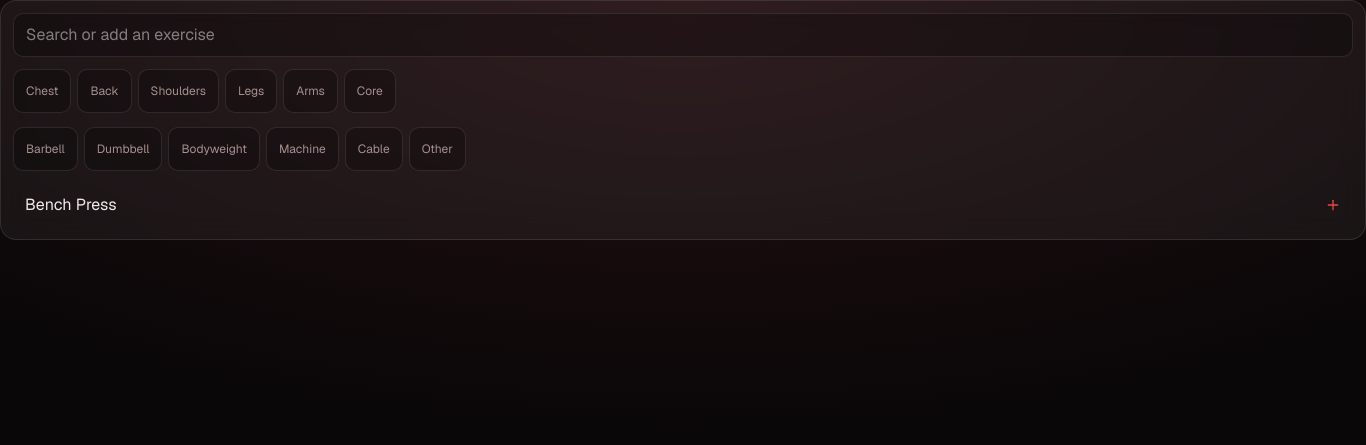
Test: ExercisePicker creation › opens the form with the typed name already filled in
The width and height of the screenshot is (1366, 445).
In the field with placeholder "Search or add an exercise": (683, 35) [13,13,1353,57], type "Pec Deck"
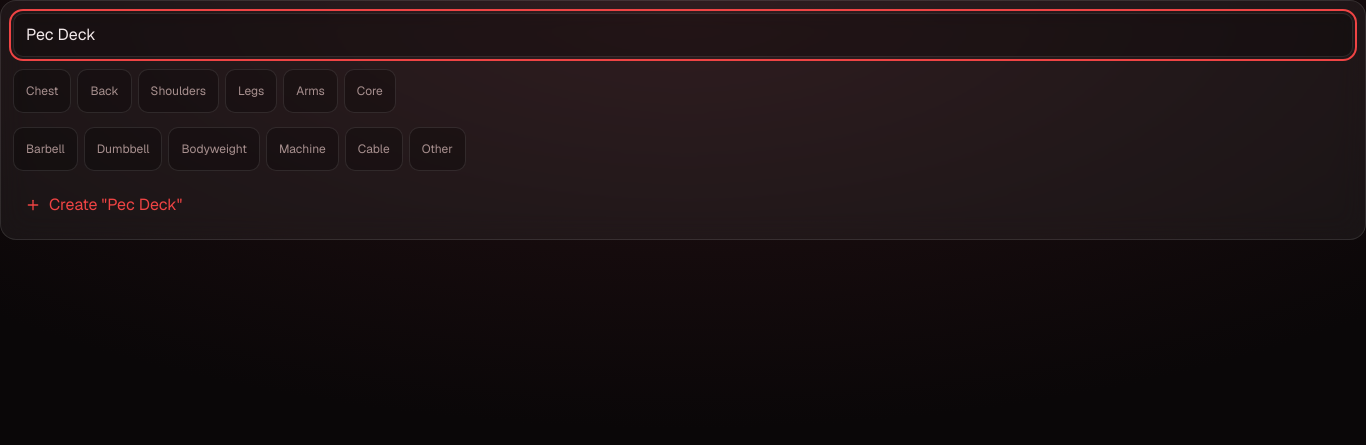
Click the button "Create \"Pec Deck\"": (78, 204) [13,183,1353,227]
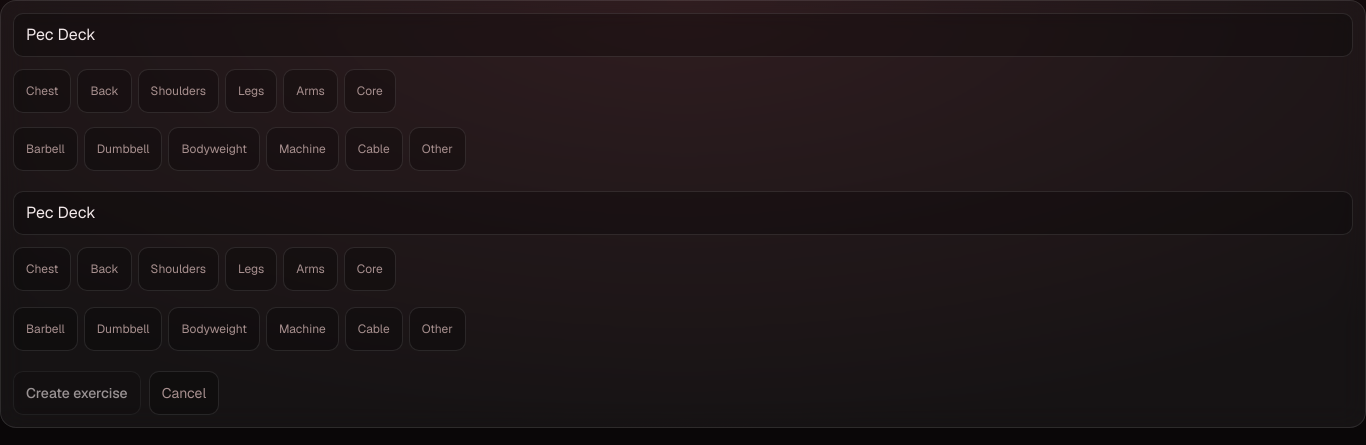
Result: the field named "Exercise name" holds "Pec Deck" at [13,191,1353,235]
